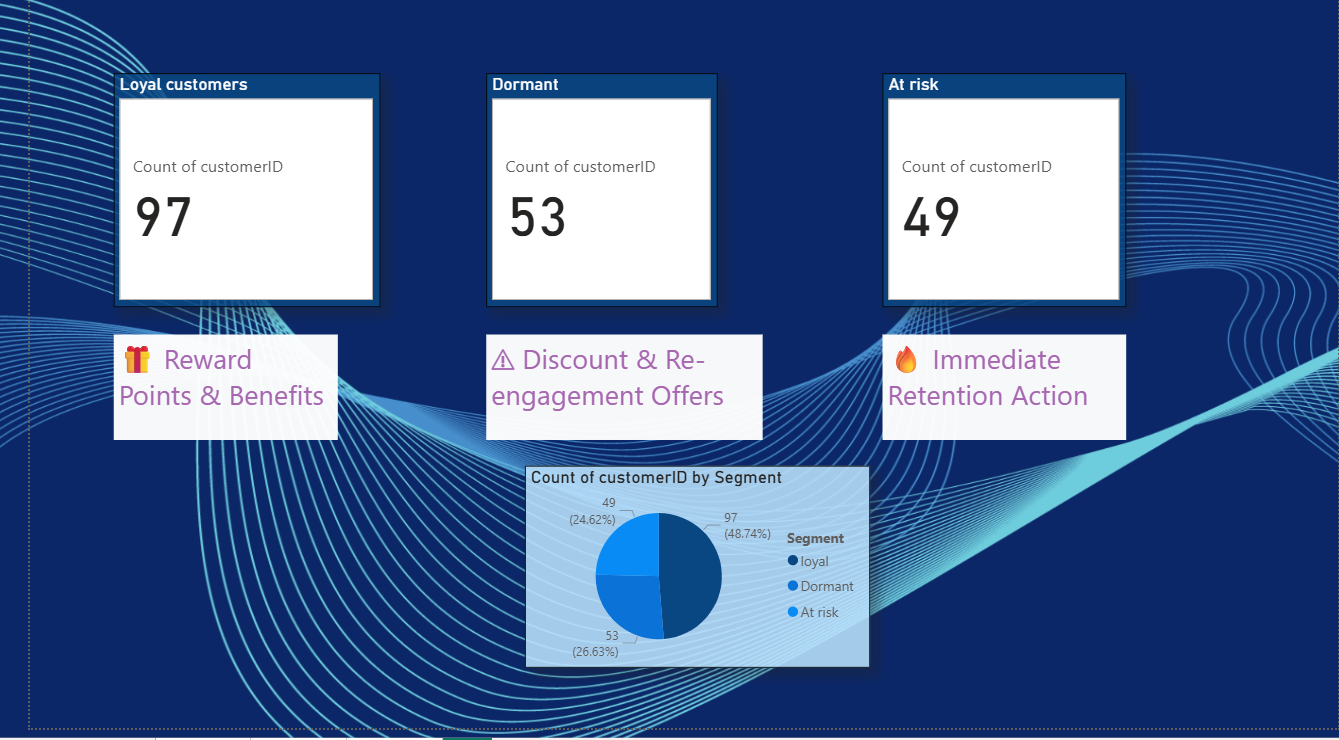

This screenshot's page, from the dashboard's own definition file:
{"tool":"powerbi","page":{"name":"Page 3","canvas":[1280,720],"ordinal":2},"visuals":[{"type":"cardVisual","title":"Loyal customers","fields":{"Data":["CountNonNull(telecom_customers.customerID)"]},"box":[82.3,79.6,260.7,229.2],"z":1},{"type":"cardVisual","title":"Dormant","fields":{"Data":["CountNonNull(telecom_customers.customerID)"]},"box":[446,79.6,226.4,229.2],"z":2},{"type":"cardVisual","title":"At risk","fields":{"Data":["CountNonNull(telecom_customers.customerID)"]},"box":[834.3,79.6,238.8,229.2],"z":3},{"type":"textbox","box":[82.3,334.8,219.6,102.9],"z":4},{"type":"textbox","box":[446,335,270,103],"z":6},{"type":"textbox","box":[834.3,334.8,238.8,102.9],"z":9},{"type":"pieChart","fields":{"Category":["telecom_customers.Segment"],"Y":["CountNonNull(telecom_customers.customerID)"]},"box":[484.4,463.8,337.6,197.6],"z":10}]}

Visuals, with their boxes in screenshot pixels (x1, y1, x2, y2), scaled from the page's 1280x720 canvas onto the 1339x740 screenshot:
"Loyal customers" cardVisual: region(86, 82, 359, 317)
"Dormant" cardVisual: region(467, 82, 703, 317)
"At risk" cardVisual: region(873, 82, 1123, 317)
textbox: region(86, 344, 316, 450)
textbox: region(467, 344, 749, 450)
textbox: region(873, 344, 1123, 450)
pieChart - telecom_customers.Segment x CountNonNull(telecom_customers.customerID): region(507, 477, 860, 680)
